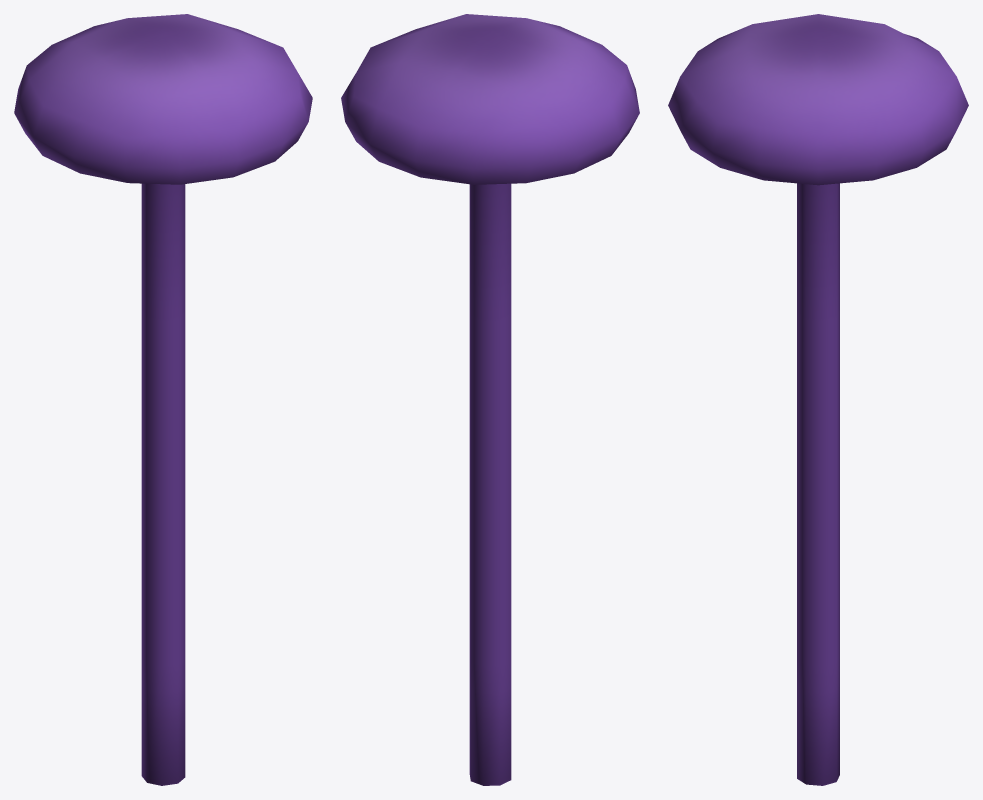
The model's file is Amethyst_Deceiver_Basic.fbx.
The picture shows the model from 3 angles, left to right: view 1: azimuth 30°, elevation 25°; view 2: azimuth 150°, elevation 25°; view 3: azimuth 270°, elevation 25°; orthographic projection.
Parts seen in each view (by area): view 1: Amethyst_Deceiver_Basic; view 2: Amethyst_Deceiver_Basic; view 3: Amethyst_Deceiver_Basic.
Boxes of the visible parts, x1,y1,x2,y2 form: Amethyst_Deceiver_Basic: (14,14,312,785); Amethyst_Deceiver_Basic: (341,14,639,785); Amethyst_Deceiver_Basic: (668,14,968,785).
Bounding box in the file's own units: 9.92 × 27.07 × 9.92.
